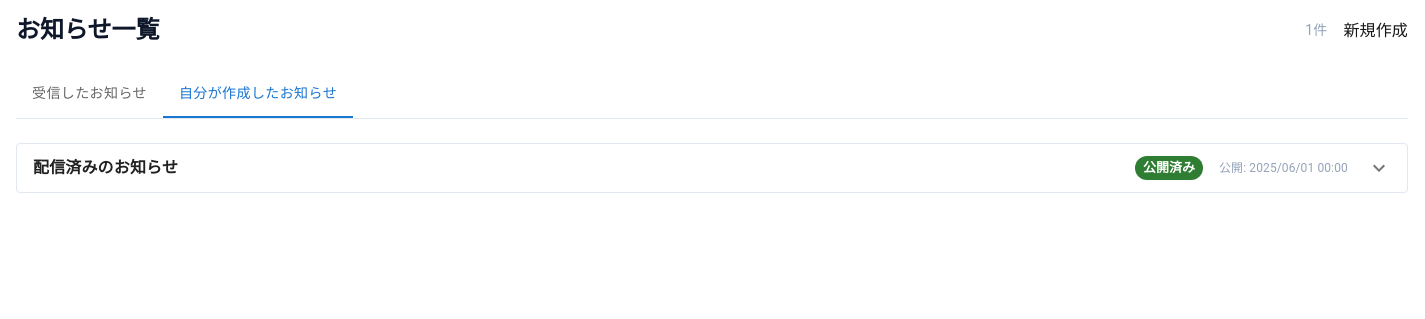
Test: AnnouncementsPresenter › 作成分タブの配信済みのお知らせは編集できないため「更新」ボタンが無効
Step 1. Click the text "配信済みのお知らせ" → {"x": 106, "y": 168}, box [33,156,178,180]
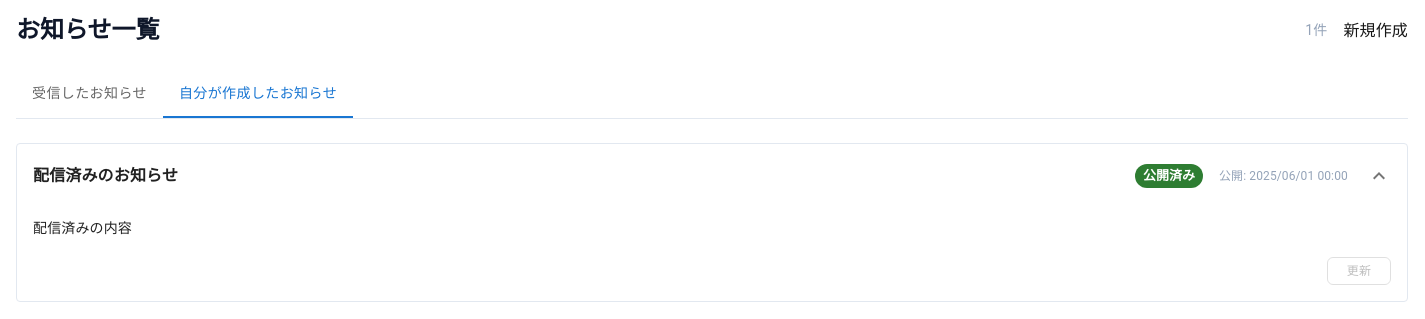
Expected: the button "更新" is disabled, [1327,257,1391,285]
